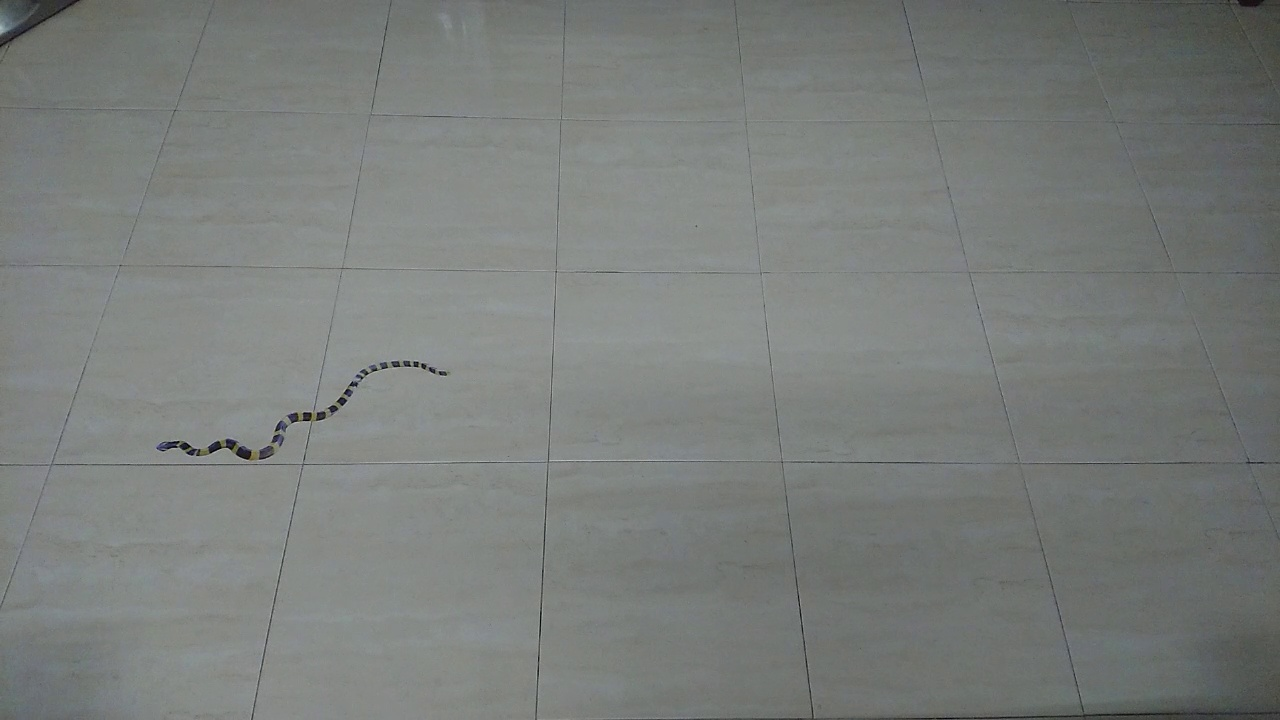snake: (143, 348, 459, 478)
